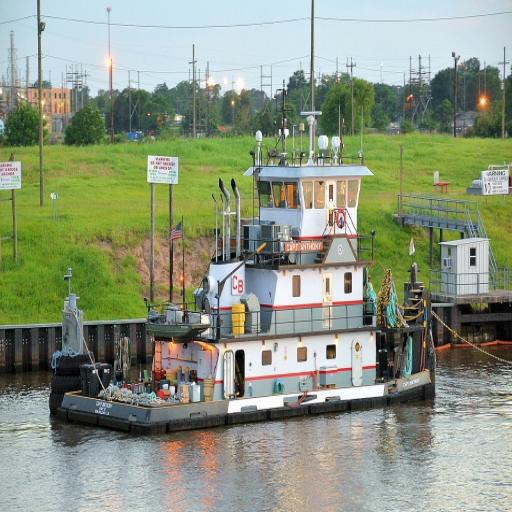tugboat: (41, 110, 441, 443)
